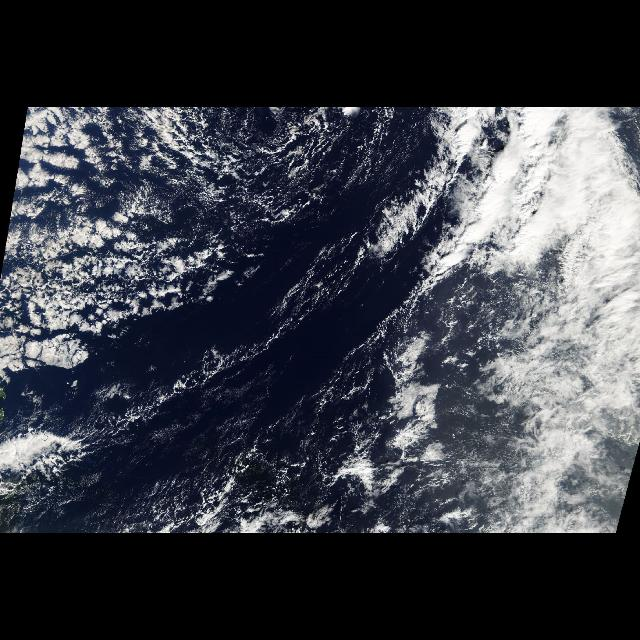Fish: (363, 115, 633, 361)
Gravel: (103, 107, 397, 237)
Sugar: (108, 316, 520, 528), (100, 112, 334, 310)
